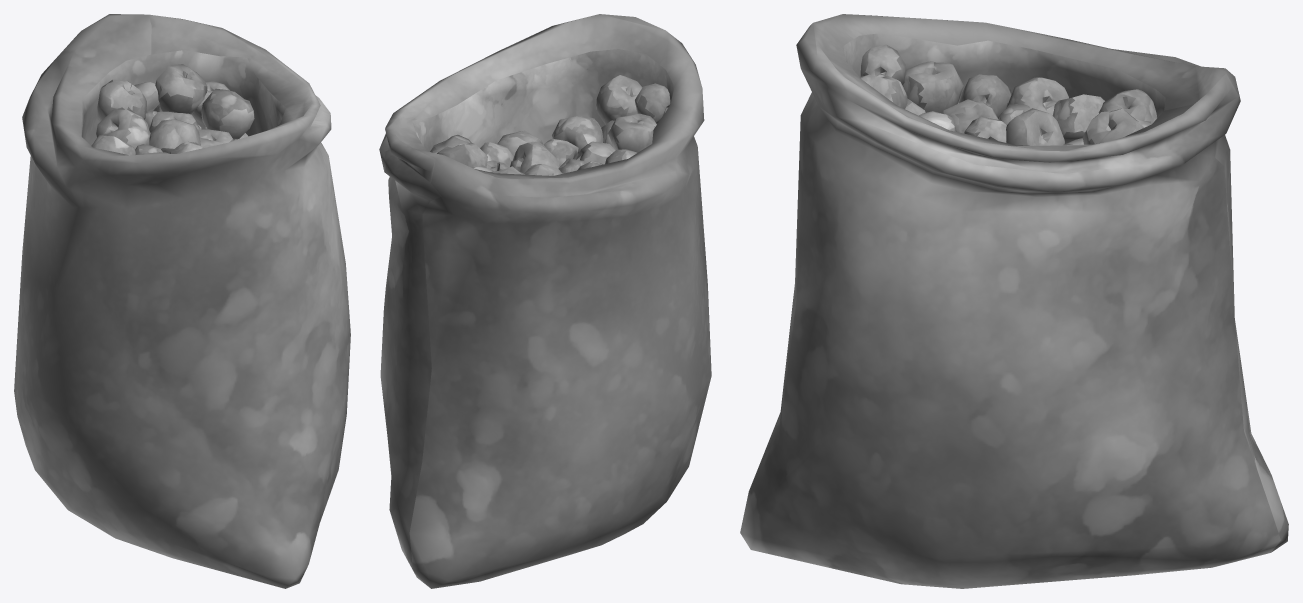
3 renders of one model, left to right at view 1: azimuth 30°, elevation 25°; view 2: azimuth 150°, elevation 25°; view 3: azimuth 270°, elevation 25°, orthographic. The views are drawn at different scales.
Visible parts, largest first — view 1: SM_Sack_Apple_02a_LOD0; view 2: SM_Sack_Apple_02a_LOD0; view 3: SM_Sack_Apple_02a_LOD0.
Part boxes in pixels (x1=…): SM_Sack_Apple_02a_LOD0: x1=14, y1=14, x2=350, y2=588; SM_Sack_Apple_02a_LOD0: x1=379, y1=14, x2=711, y2=588; SM_Sack_Apple_02a_LOD0: x1=740, y1=14, x2=1288, y2=588.
Size of the model in its own units: 65.83 by 94.51 by 97.29.
